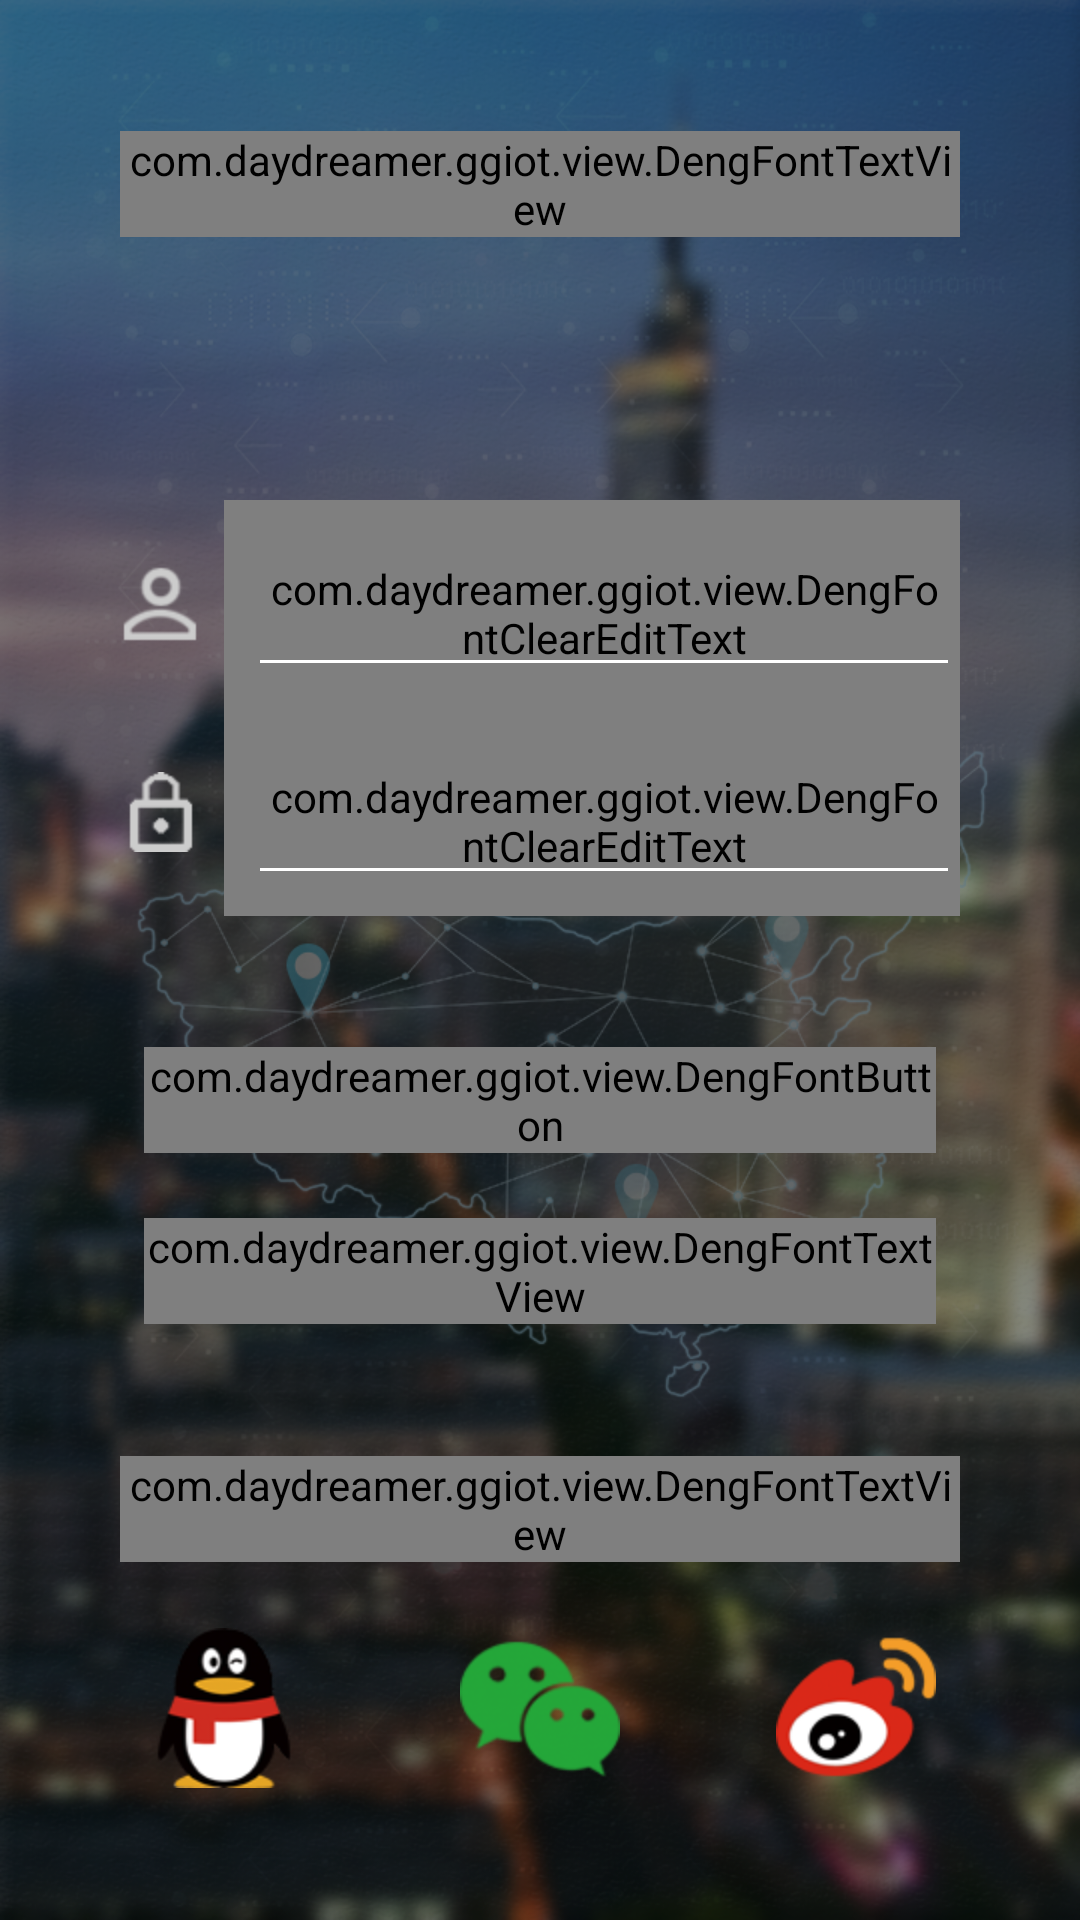

Named icons in this screenshot (1080 × 1920) and their centers, (x=x, y=y):
account activity login register: (x=160, y=604)
password activity login register: (x=160, y=812)
